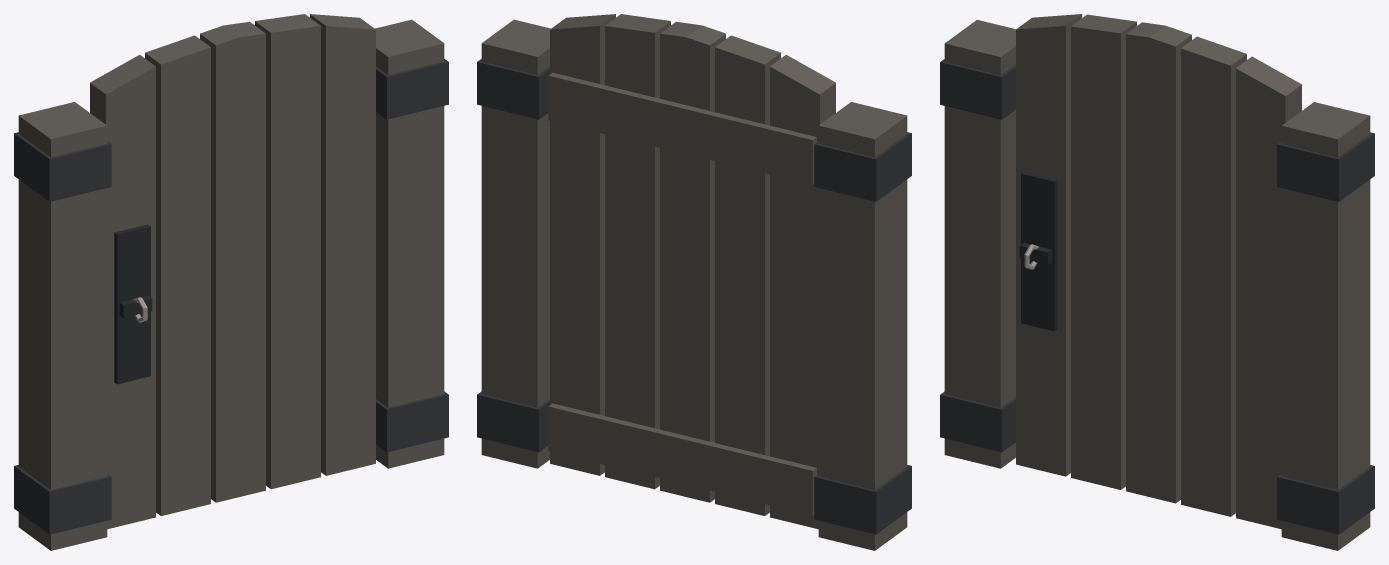
File: Wicket_02_A.gltf
3 renders of one model, left to right at view 1: azimuth 30°, elevation 25°; view 2: azimuth 150°, elevation 25°; view 3: azimuth 330°, elevation 25°, orthographic.
Visible parts, largest first — view 1: WicketDoor_02_A, Wicket_02_A; view 2: WicketDoor_02_A, Wicket_02_A; view 3: WicketDoor_02_A, Wicket_02_A.
Boxes of the visible parts, x1,y1,x2,y2 form: WicketDoor_02_A: [90, 14, 375, 529]; Wicket_02_A: [14, 19, 448, 550]; WicketDoor_02_A: [548, 14, 835, 529]; Wicket_02_A: [477, 19, 911, 550]; WicketDoor_02_A: [1016, 14, 1301, 529]; Wicket_02_A: [940, 19, 1374, 550].
Size of the model in its own units: 0.7103 by 0.7817 by 0.1269.
